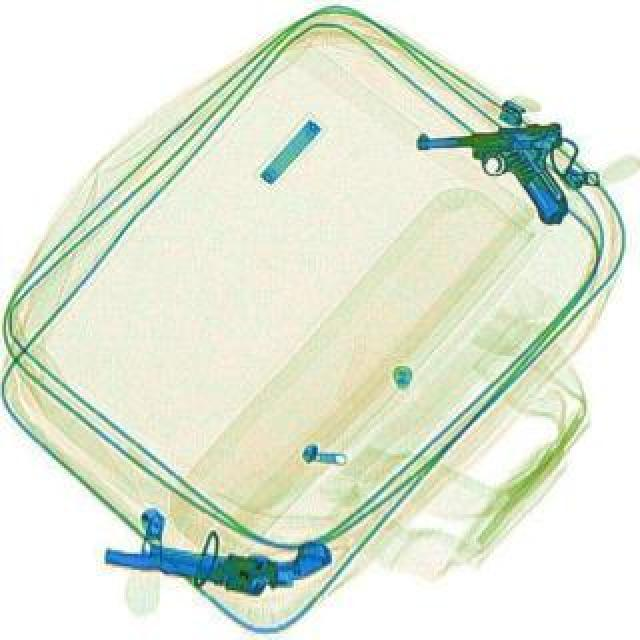gun: (104, 520, 332, 604), (416, 124, 576, 242)
